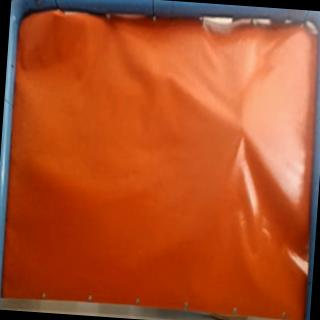Hit-hRxx: (236, 120, 251, 136)
